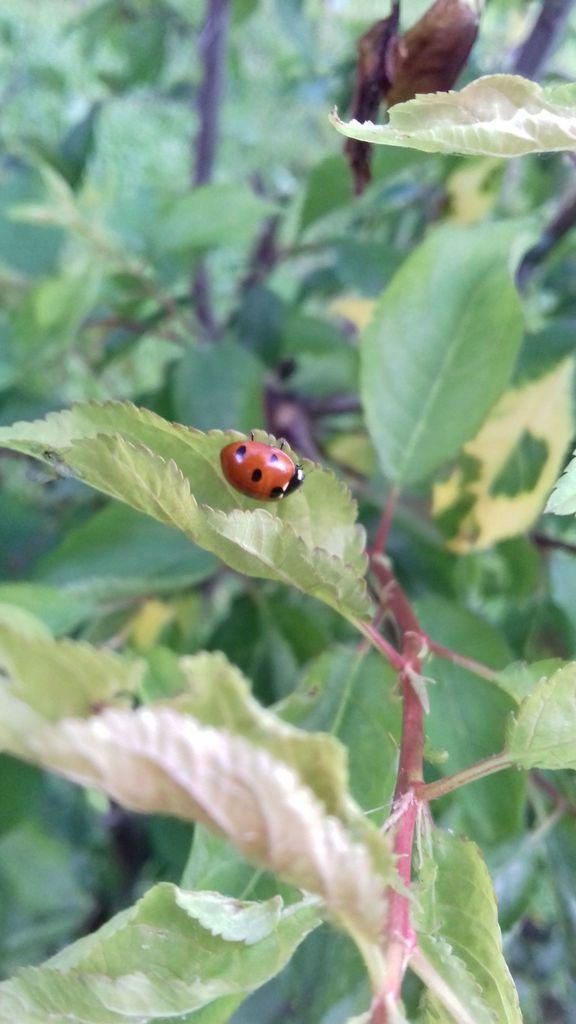ladybug: (219, 430, 308, 503)
